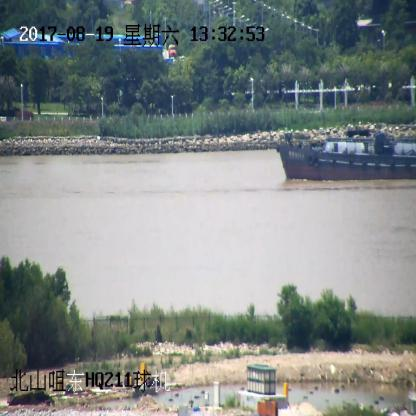Bulk Carrier: (276, 133, 416, 179)
